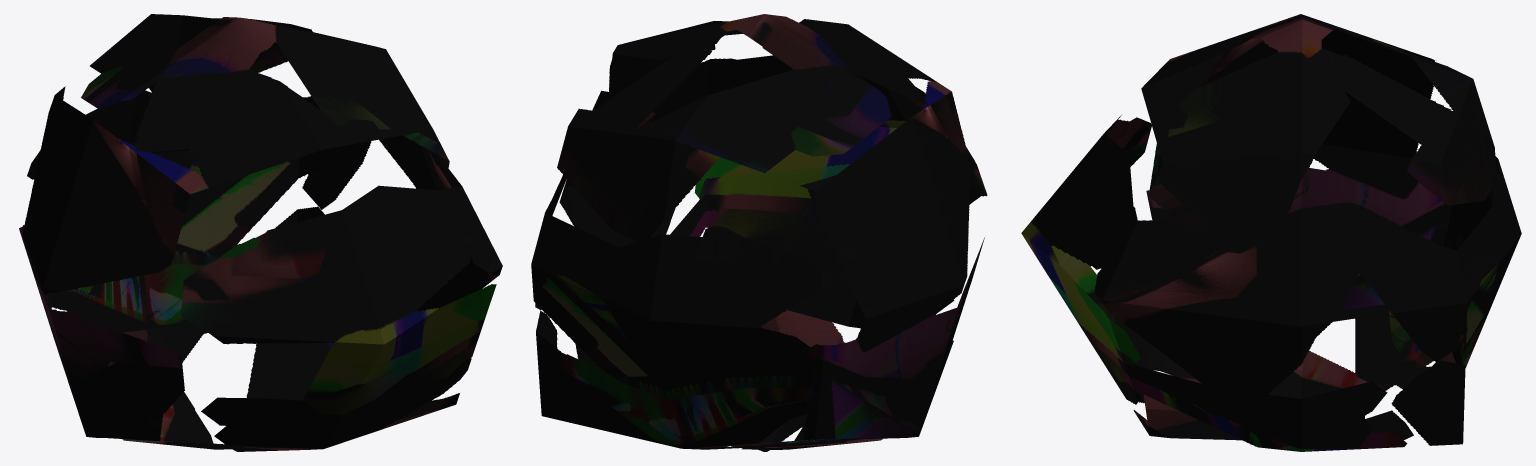
File: shading.fbx
The picture shows the model from 3 angles, left to right: view 1: azimuth 30°, elevation 25°; view 2: azimuth 150°, elevation 25°; view 3: azimuth 270°, elevation 25°; orthographic projection. The views are drawn at different scales.
Visible parts, largest first — view 1: Cubo; view 2: Cubo; view 3: Cubo.
Part boxes in pixels (x1=…): Cubo: x1=19, y1=14, x2=502, y2=451; Cubo: x1=531, y1=14, x2=987, y2=451; Cubo: x1=1021, y1=14, x2=1521, y2=451.
Size of the model in its own units: 168 by 177 by 191.
